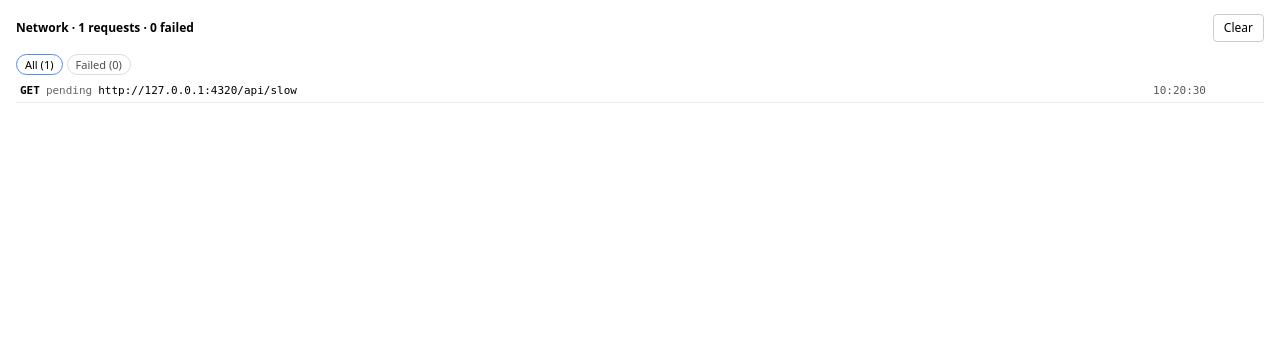
Test: NetworkDrawer › does not request a body for a pending request
Click the button "GET pending http://127.0.0.1:4320/api/slow 10:20:30" at (69, 91), box [16, 81, 1264, 103]
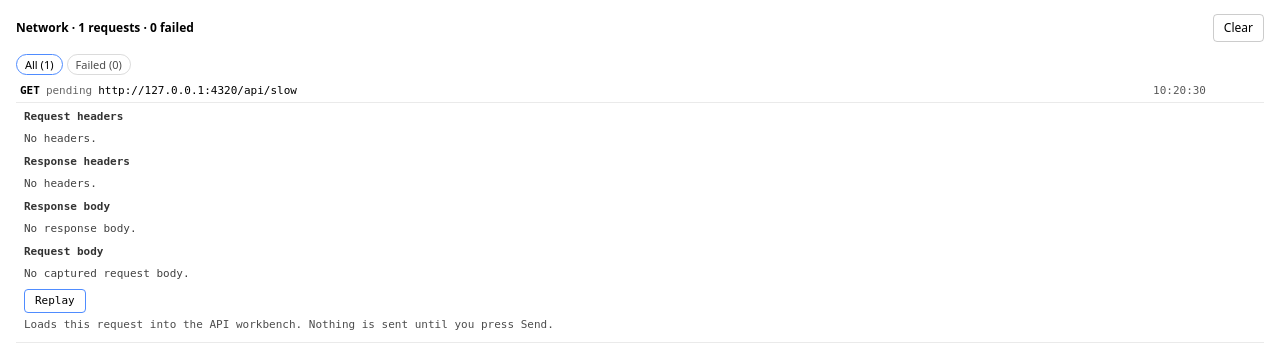
Result: the text "No response body." is shown at [24, 222, 137, 235]
